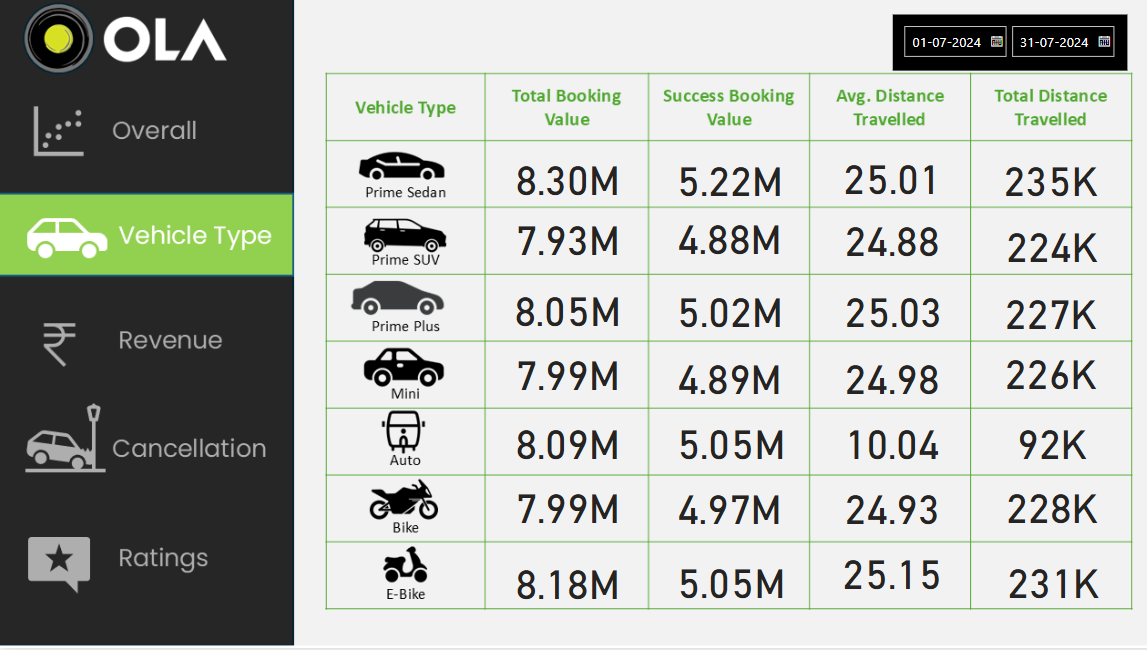

This screenshot's page, from the dashboard's own definition file:
{"tool":"powerbi","page":{"name":"Vehicle Type","canvas":[1280,720],"ordinal":1},"visuals":[{"type":"actionButton","box":[0,223.7,326.6,87.8],"z":0},{"type":"actionButton","box":[0,334.8,326.6,91.9],"z":1000},{"type":"actionButton","box":[0,456.9,326.6,91.9],"z":2000},{"type":"actionButton","box":[0,576.3,326.6,91.9],"z":3000},{"type":"actionButton","box":[0,109.8,326.6,91.9],"z":4000},{"type":"card","fields":{"Values":["Sum(July.Booking_Value)"]},"box":[537.9,167.4,172.9,70],"z":5000},{"type":"card","fields":{"Values":["Sum(July.Booking_Value)"]},"box":[537.9,233.3,172.9,70],"z":6000},{"type":"card","fields":{"Values":["Sum(July.Booking_Value)"]},"box":[537.9,311.5,172.9,70],"z":7000},{"type":"card","fields":{"Values":["Sum(July.Booking_Value)"]},"box":[537.9,381.5,172.9,70],"z":8000},{"type":"card","fields":{"Values":["Sum(July.Booking_Value)"]},"box":[537.9,456.9,172.9,70],"z":9000},{"type":"card","fields":{"Values":["Sum(July.Booking_Value)"]},"box":[537.9,526.9,172.9,70],"z":10000},{"type":"card","fields":{"Values":["Sum(July.Booking_Value)"]},"box":[537.9,610.6,172.9,70],"z":11000},{"type":"card","fields":{"Values":["Sum(July.Booking_Value)"]},"box":[710.8,167.4,182.5,71.4],"z":12000},{"type":"card","fields":{"Values":["Sum(July.Booking_Value)"]},"box":[710.8,231.9,182.5,71.4],"z":13000},{"type":"card","fields":{"Values":["Sum(July.Booking_Value)"]},"box":[710.8,311.5,182.5,71.4],"z":14000},{"type":"card","fields":{"Values":["Sum(July.Booking_Value)"]},"box":[710.8,385.6,182.5,71.4],"z":15000},{"type":"card","fields":{"Values":["Sum(July.Booking_Value)"]},"box":[712.2,456.9,182.5,71.4],"z":16000},{"type":"card","fields":{"Values":["Sum(July.Booking_Value)"]},"box":[710.8,528.3,182.5,71.4],"z":17000},{"type":"card","fields":{"Values":["Sum(July.Booking_Value)"]},"box":[712.2,609.3,182.5,71.4],"z":18000},{"type":"card","fields":{"Values":["Avg(July.Ride_Distance)"]},"box":[893.3,166,174.3,71.4],"z":19000},{"type":"card","fields":{"Values":["Avg(July.Ride_Distance)"]},"box":[893.3,233.3,174.3,71.4],"z":20000},{"type":"card","fields":{"Values":["Avg(July.Ride_Distance)"]},"box":[894.7,311.5,174.3,71.4],"z":21000},{"type":"card","fields":{"Values":["Avg(July.Ride_Distance)"]},"box":[893.3,385.6,174.3,71.4],"z":22000},{"type":"card","fields":{"Values":["Avg(July.Ride_Distance)"]},"box":[893.3,456.9,174.3,71.4],"z":23000},{"type":"card","fields":{"Values":["Avg(July.Ride_Distance)"]},"box":[893.3,528.3,174.3,71.4],"z":24000},{"type":"card","fields":{"Values":["Avg(July.Ride_Distance)"]},"box":[893.3,599.7,174.3,71.4],"z":25000},{"type":"card","fields":{"Values":["Sum(July.Ride_Distance)"]},"box":[1067.6,167.4,174.3,71.4],"z":26000},{"type":"card","fields":{"Values":["Sum(July.Ride_Distance)"]},"box":[1069,240.1,174.3,71.4],"z":27000},{"type":"card","fields":{"Values":["Sum(July.Ride_Distance)"]},"box":[1067.6,314.2,174.3,71.4],"z":28000},{"type":"card","fields":{"Values":["Sum(July.Ride_Distance)"]},"box":[1067.6,380.1,174.3,71.4],"z":29000},{"type":"card","fields":{"Values":["Sum(July.Ride_Distance)"]},"box":[1069,456.9,174.3,71.4],"z":30000},{"type":"card","fields":{"Values":["Sum(July.Ride_Distance)"]},"box":[1069,526.9,174.3,71.4],"z":31000},{"type":"card","fields":{"Values":["Sum(July.Ride_Distance)"]},"box":[1070.3,609.3,174.3,71.4],"z":32000},{"type":"slicer","title":"Date","fields":{"Values":["July.Date"]},"box":[981.1,24.7,258,61.7],"z":33000}]}

Visuals, with their boxes on the page's 1280x720 design canvas (x1, y1, x2, y2). These are canvas units, not pixel positions in the 1147x650 screenshot, which may show the page scaled, cropped or inside an application window:
actionButton: crop(0, 224, 327, 312)
actionButton: crop(0, 335, 327, 427)
actionButton: crop(0, 457, 327, 549)
actionButton: crop(0, 576, 327, 668)
actionButton: crop(0, 110, 327, 202)
card - Sum(July.Booking_Value): crop(538, 167, 711, 237)
card - Sum(July.Booking_Value): crop(538, 233, 711, 303)
card - Sum(July.Booking_Value): crop(538, 312, 711, 382)
card - Sum(July.Booking_Value): crop(538, 382, 711, 452)
card - Sum(July.Booking_Value): crop(538, 457, 711, 527)
card - Sum(July.Booking_Value): crop(538, 527, 711, 597)
card - Sum(July.Booking_Value): crop(538, 611, 711, 681)
card - Sum(July.Booking_Value): crop(711, 167, 893, 239)
card - Sum(July.Booking_Value): crop(711, 232, 893, 303)
card - Sum(July.Booking_Value): crop(711, 312, 893, 383)
card - Sum(July.Booking_Value): crop(711, 386, 893, 457)
card - Sum(July.Booking_Value): crop(712, 457, 895, 528)
card - Sum(July.Booking_Value): crop(711, 528, 893, 600)
card - Sum(July.Booking_Value): crop(712, 609, 895, 681)
card - Avg(July.Ride_Distance): crop(893, 166, 1068, 237)
card - Avg(July.Ride_Distance): crop(893, 233, 1068, 305)
card - Avg(July.Ride_Distance): crop(895, 312, 1069, 383)
card - Avg(July.Ride_Distance): crop(893, 386, 1068, 457)
card - Avg(July.Ride_Distance): crop(893, 457, 1068, 528)
card - Avg(July.Ride_Distance): crop(893, 528, 1068, 600)
card - Avg(July.Ride_Distance): crop(893, 600, 1068, 671)
card - Sum(July.Ride_Distance): crop(1068, 167, 1242, 239)
card - Sum(July.Ride_Distance): crop(1069, 240, 1243, 312)
card - Sum(July.Ride_Distance): crop(1068, 314, 1242, 386)
card - Sum(July.Ride_Distance): crop(1068, 380, 1242, 452)
card - Sum(July.Ride_Distance): crop(1069, 457, 1243, 528)
card - Sum(July.Ride_Distance): crop(1069, 527, 1243, 598)
card - Sum(July.Ride_Distance): crop(1070, 609, 1245, 681)
"Date" slicer: crop(981, 25, 1239, 86)
